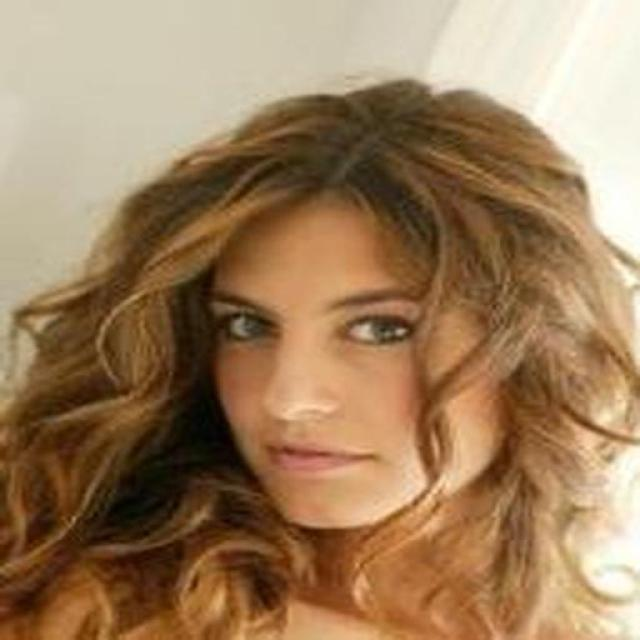bareface: (211, 226, 498, 522)
